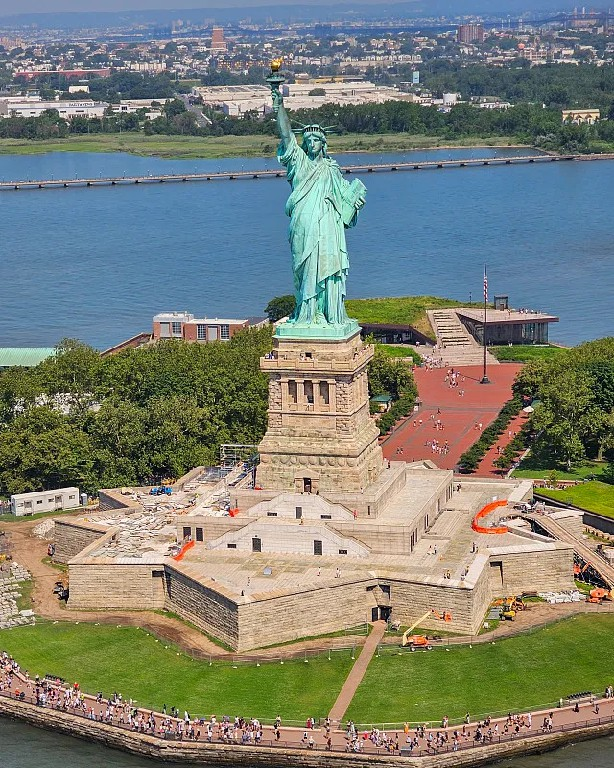SL: (254, 55, 383, 494)
